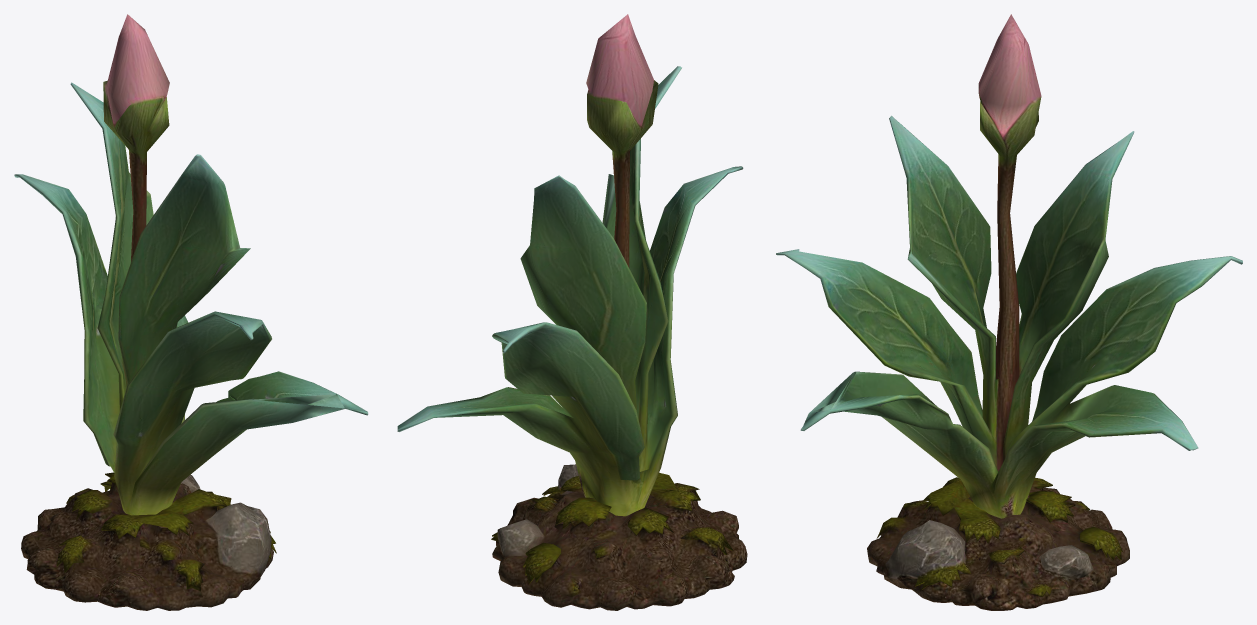
File: prop_linh_thao.d9736520b9.glb
3 renders of one model, left to right at view 1: azimuth 30°, elevation 25°; view 2: azimuth 150°, elevation 25°; view 3: azimuth 270°, elevation 25°, orthographic. The views are drawn at different scales.
Parts seen in each view (by area): view 1: tripo_node_eec1fb46-1922-479c-95c4-939052c05a4b; view 2: tripo_node_eec1fb46-1922-479c-95c4-939052c05a4b; view 3: tripo_node_eec1fb46-1922-479c-95c4-939052c05a4b.
Boxes of the visible parts, <box> form: tripo_node_eec1fb46-1922-479c-95c4-939052c05a4b: <box>14,14,368,610</box>; tripo_node_eec1fb46-1922-479c-95c4-939052c05a4b: <box>397,14,747,610</box>; tripo_node_eec1fb46-1922-479c-95c4-939052c05a4b: <box>776,14,1242,610</box>.
Size of what is drawn, in the model's own units: 0.4501 by 1 by 0.7848.
Materials: 1 (1 with a texture image).
